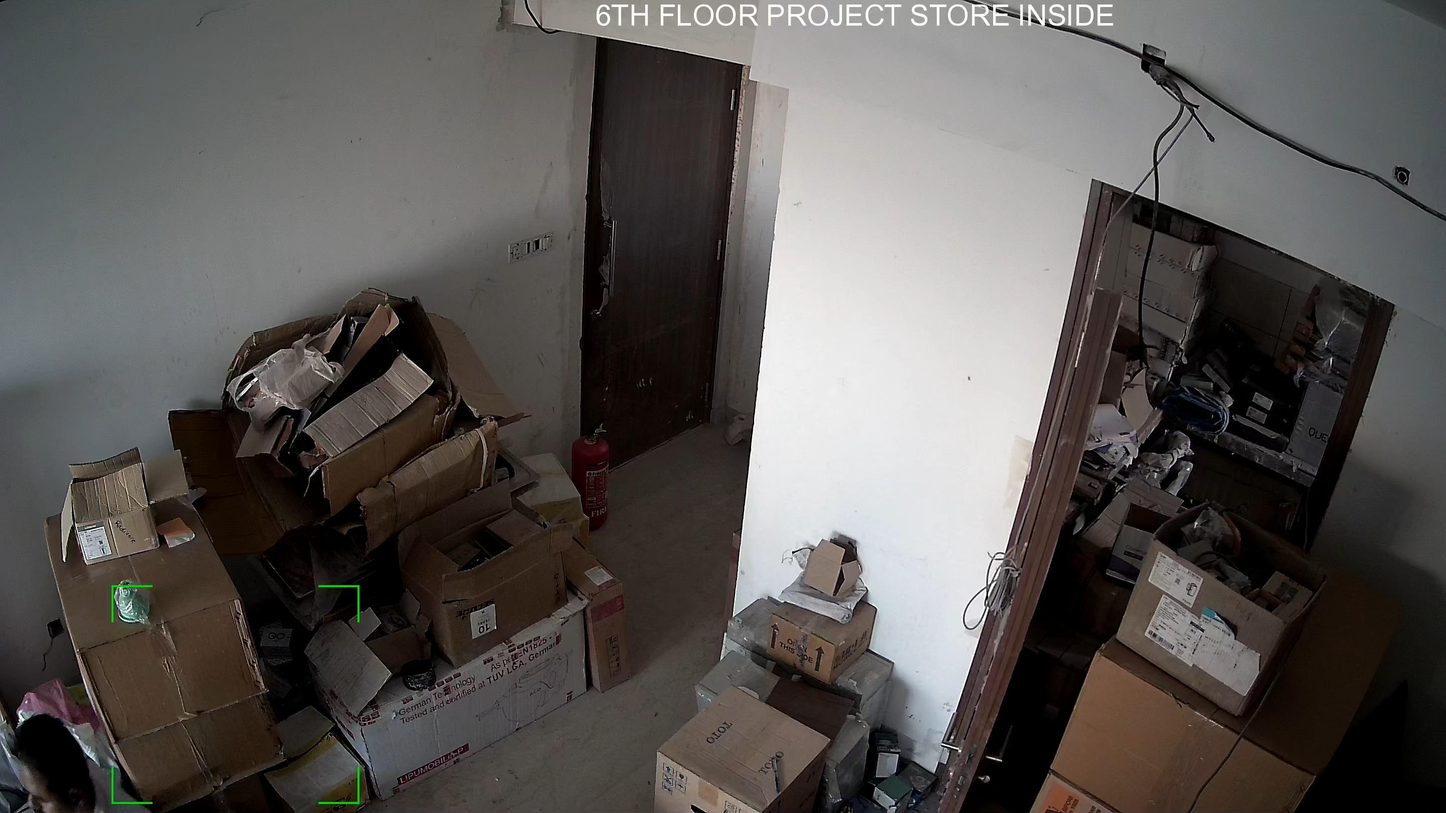Door-Close: (572, 34, 751, 511)
